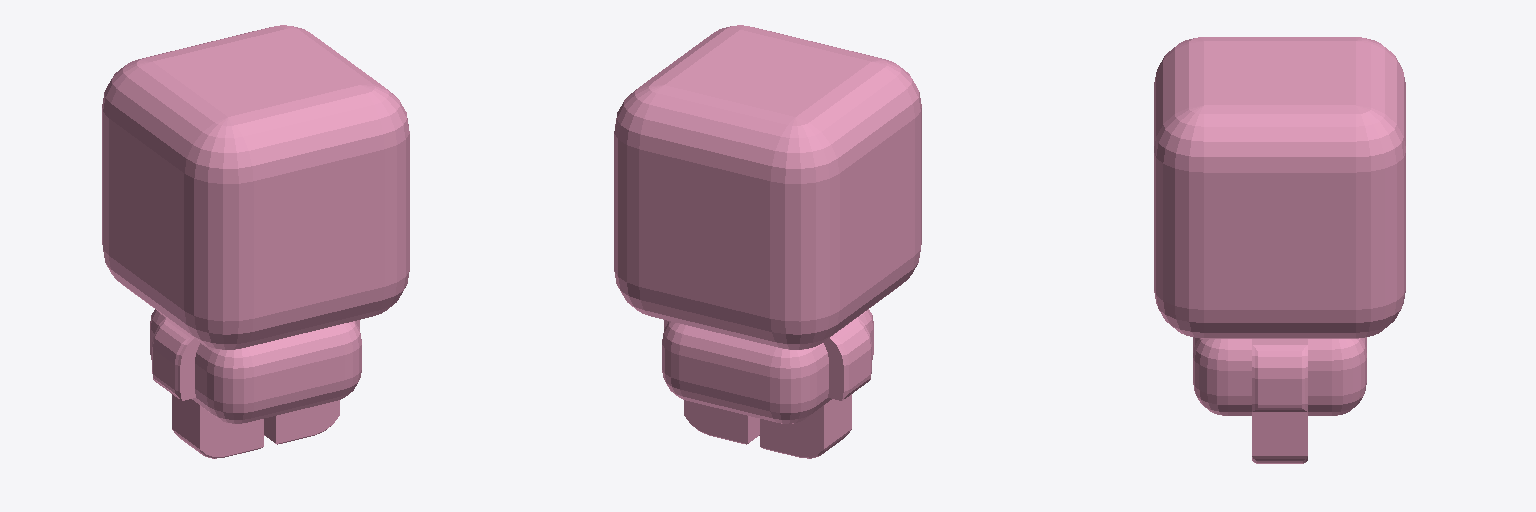
The picture shows the model from 3 angles: view 1: azimuth 30°, elevation 25°; view 2: azimuth 150°, elevation 25°; view 3: azimuth 270°, elevation 25°; orthographic projection.
Parts seen in each view (by area): view 1: body; view 2: body; view 3: body.
Boxes of the visible parts, x1=… form: body: x1=102, y1=25, x2=409, y2=458; body: x1=614, y1=25, x2=921, y2=458; body: x1=1154, y1=37, x2=1405, y2=463.
Bounding box in the file's own units: 39.78 × 63.45 × 39.78.
1 materials, 1 textured.